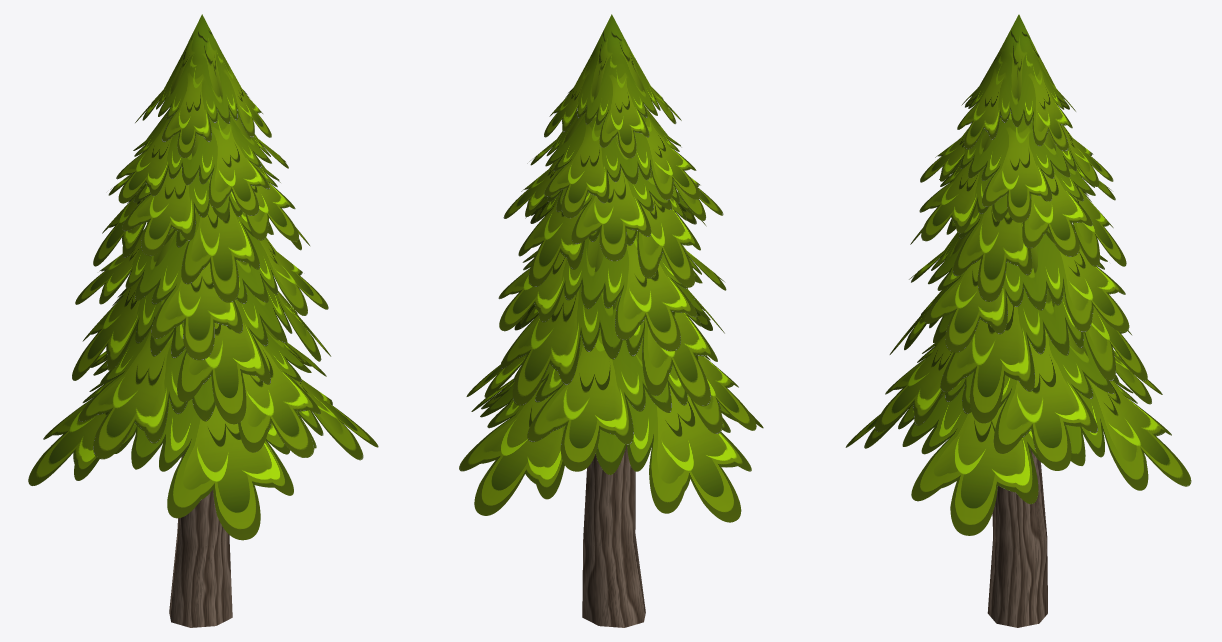
File: tree_01.FBX
3 renders of one model, left to right at view 1: azimuth 30°, elevation 25°; view 2: azimuth 150°, elevation 25°; view 3: azimuth 270°, elevation 25°, orthographic.
Parts seen in each view (by area): view 1: tree_01_01, tree_01_02; view 2: tree_01_01, tree_01_02; view 3: tree_01_01, tree_01_02.
Boxes of the visible parts, x1,y1,x2,y2 form: tree_01_01: [28, 14, 378, 540]; tree_01_02: [169, 451, 232, 627]; tree_01_01: [459, 14, 763, 522]; tree_01_02: [582, 445, 645, 627]; tree_01_01: [845, 14, 1191, 535]; tree_01_02: [987, 448, 1047, 627].
Bounding box in the file's own units: 284 × 496 × 284.
